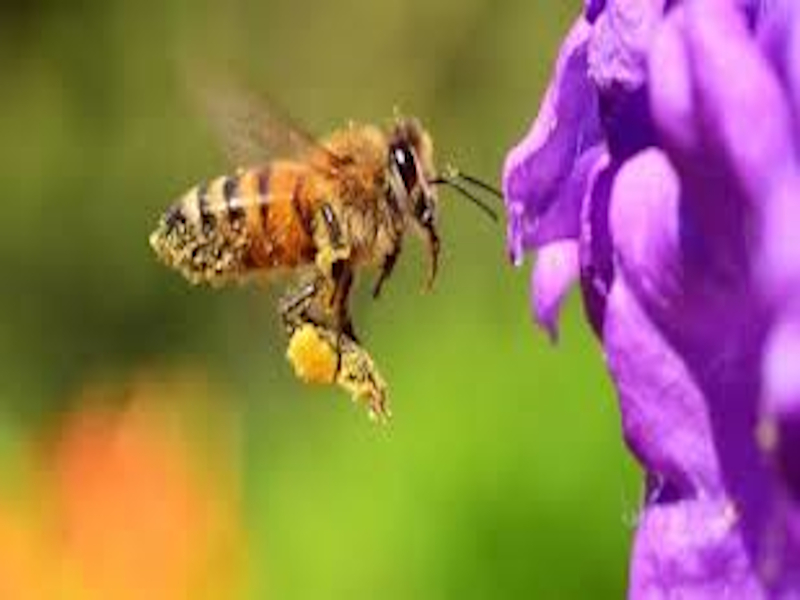abeja: (132, 70, 523, 430)
